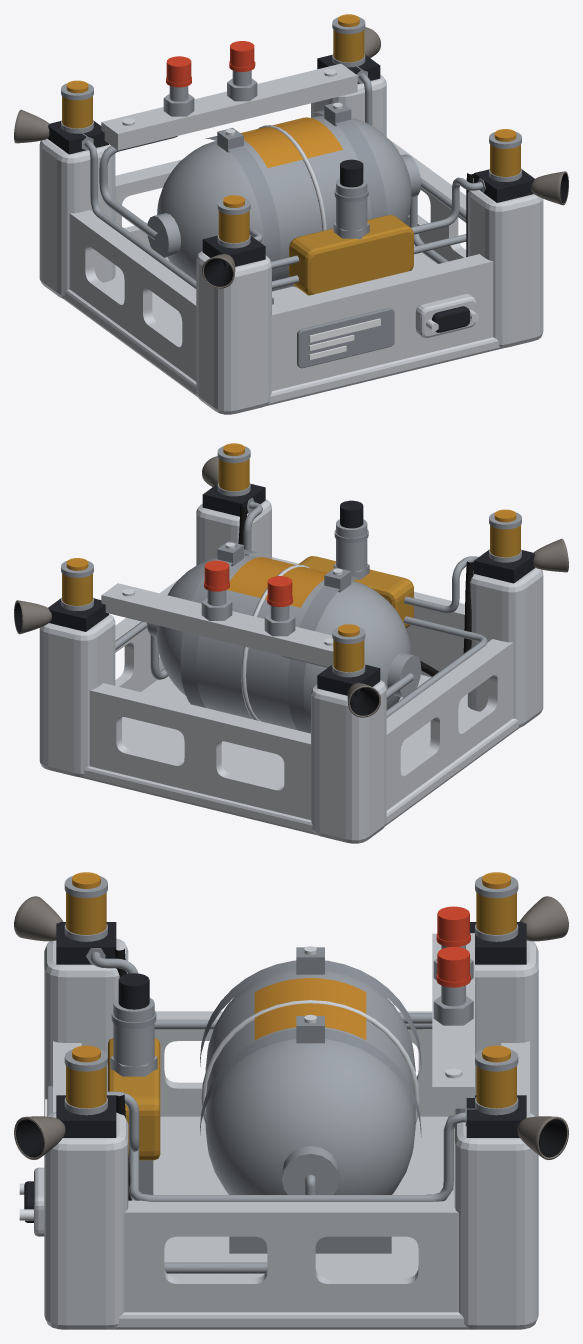
File: prop-coldgas.glb
3 views of the same model, one above another, from view 1: azimuth 30°, elevation 25°; view 2: azimuth 150°, elevation 25°; view 3: azimuth 270°, elevation 25° (orthographic). The views are drawn at different scales.
Parts seen in each view (by area): view 1: tank, post--11, wall-0, post-11, wall-3, bridge, base-plate, post--1-1, manifold, wall-lip-0, tank-heater, label-plate (+35 smaller); view 2: tank, wall-1, base-plate, post--1-1, post-1-1, post--11, wall-3, bridge, wall-lip-1, wall-lip-3, post-11, tank-heater (+28 smaller); view 3: tank, wall-2, base-plate, post-11, post-1-1, wall-lip-2, post--11, post--1-1, tank-heater, bridge, wall-3, pipe-1-1 (+35 smaller).
Boxes of the visible parts, <box> form: tank: <box>157,115,411,291</box>; post--11: <box>196,251,271,414</box>; wall-0: <box>271,268,493,391</box>; post-11: <box>467,190,543,348</box>; wall-3: <box>69,220,196,381</box>; bridge: <box>101,63,357,150</box>; base-plate: <box>63,244,502,405</box>; post--1-1: <box>39,138,115,298</box>; manifold: <box>289,215,413,295</box>; wall-lip-0: <box>271,254,493,321</box>; tank-heater: <box>240,117,343,167</box>; label-plate: <box>297,307,394,368</box>; tank: <box>157,555,411,730</box>; wall-1: <box>89,697,311,820</box>; base-plate: <box>80,674,519,834</box>; post--1-1: <box>311,680,386,843</box>; post-1-1: <box>39,614,115,777</box>; post--11: <box>467,567,543,727</box>; wall-3: <box>386,649,513,810</box>; bridge: <box>101,583,333,666</box>; wall-lip-1: <box>89,683,311,750</box>; wall-lip-3: <box>386,639,513,741</box>; post-11: <box>196,499,271,565</box>; tank-heater: <box>227,557,327,607</box>; tank: <box>205,970,415,1194</box>; wall-2: <box>124,1221,458,1312</box>; base-plate: <box>111,1116,471,1329</box>; post-11: <box>44,1112,128,1329</box>; post-1-1: <box>454,1112,538,1329</box>; wall-lip-2: <box>124,1200,458,1221</box>; post--11: <box>44,938,128,1116</box>; post--1-1: <box>454,940,538,1116</box>; tank-heater: <box>254,978,366,1040</box>; bridge: <box>432,933,474,1108</box>; wall-3: <box>154,1032,454,1116</box>; pipe-1-1: <box>129,1112,465,1201</box>.
Bounding box in the file's own units: 0.1164 × 0.0663 × 0.1164.
